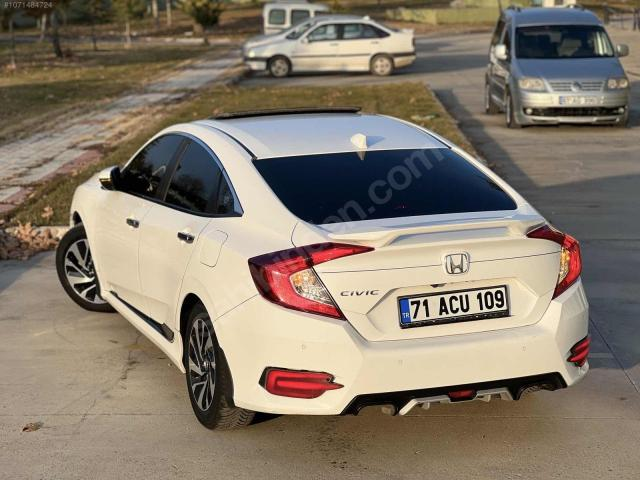plaka: (398, 285, 508, 327)
